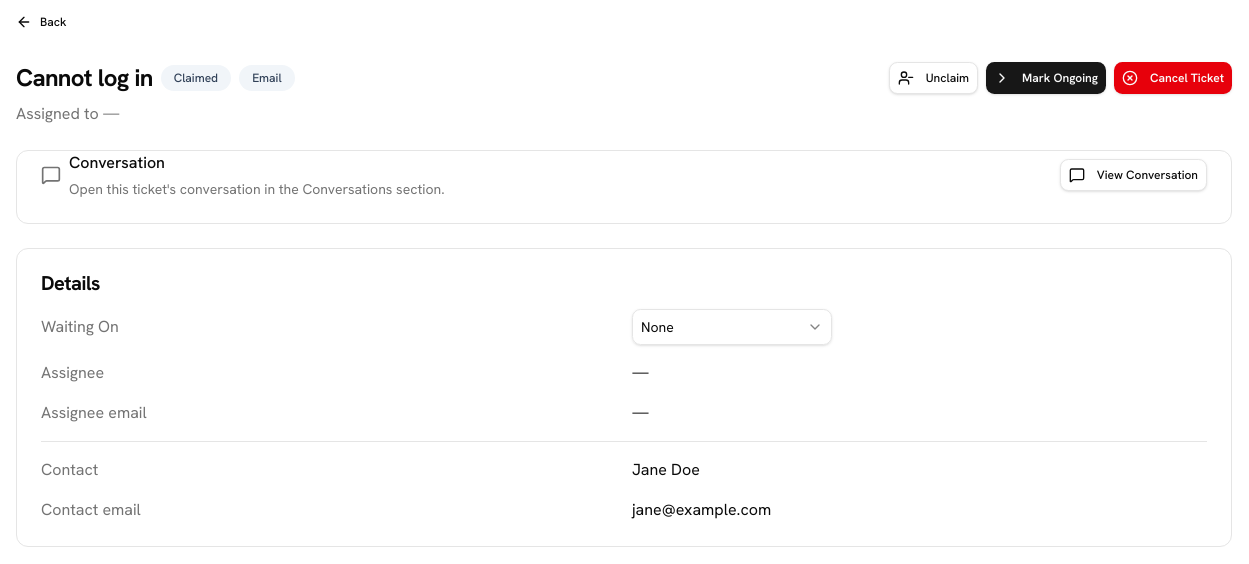
Test: TicketDetailPage › changes WaitingOn and updates the displayed value from the response body
Click the dropdown named "Set waiting on" at (732, 327), box left=632, top=309, right=832, bottom=345
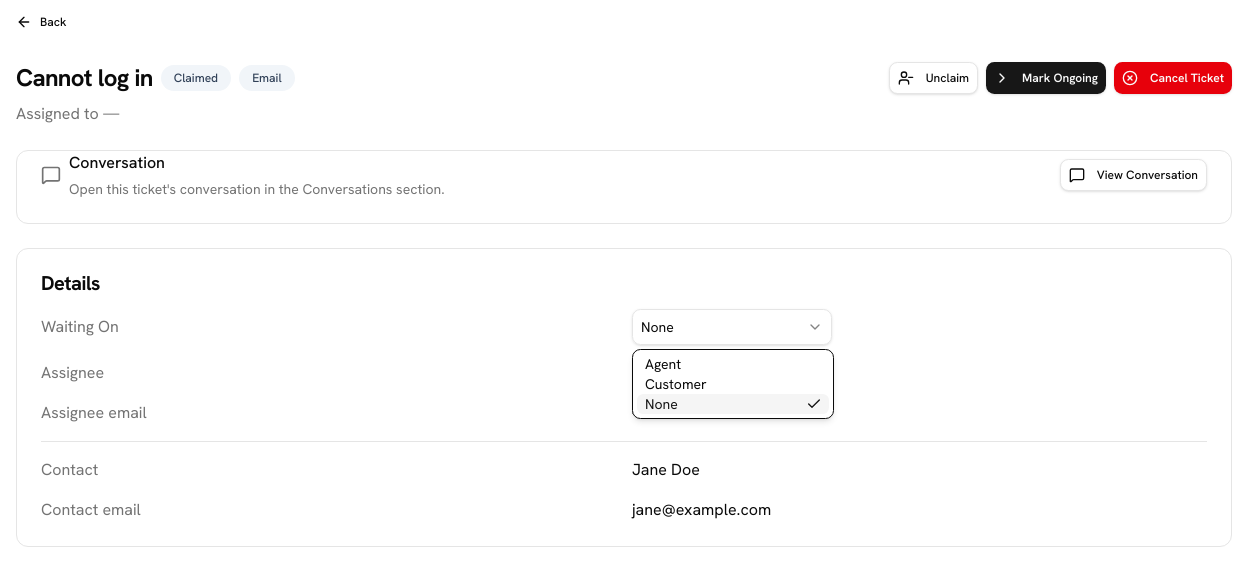
Click the option "Agent" at (663, 364), box left=645, top=355, right=681, bottom=373
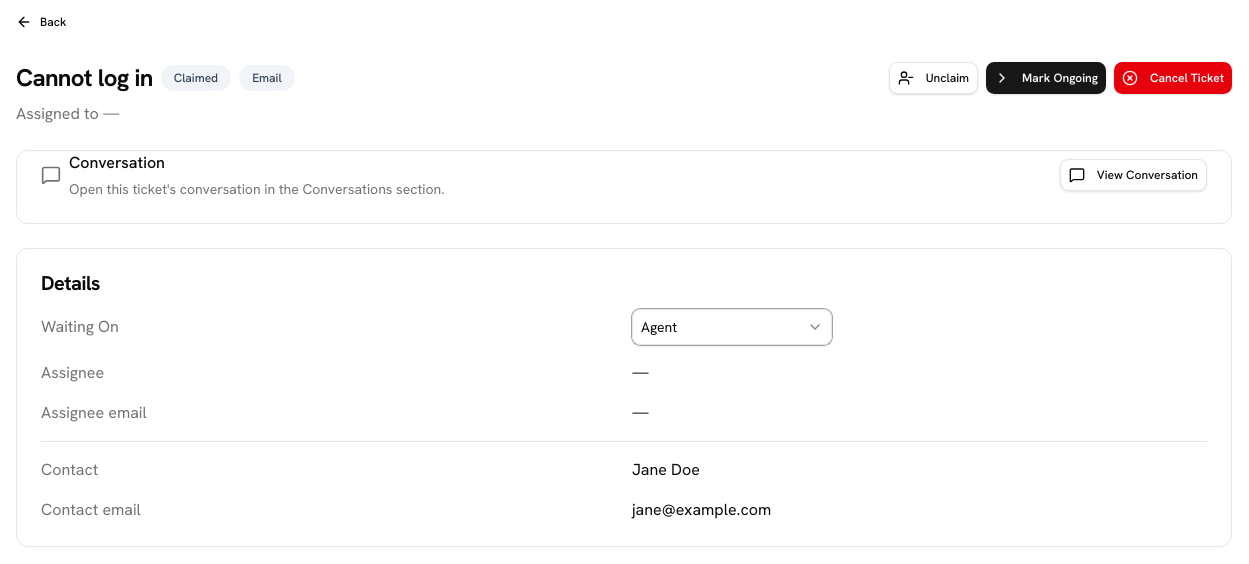
Expected: the dropdown named "Set waiting on" reads "Agent", left=632, top=309, right=832, bottom=345
